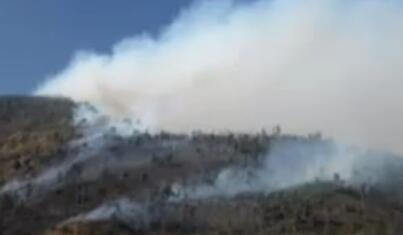yanwu: (20, 1, 403, 189), (57, 145, 390, 228)
